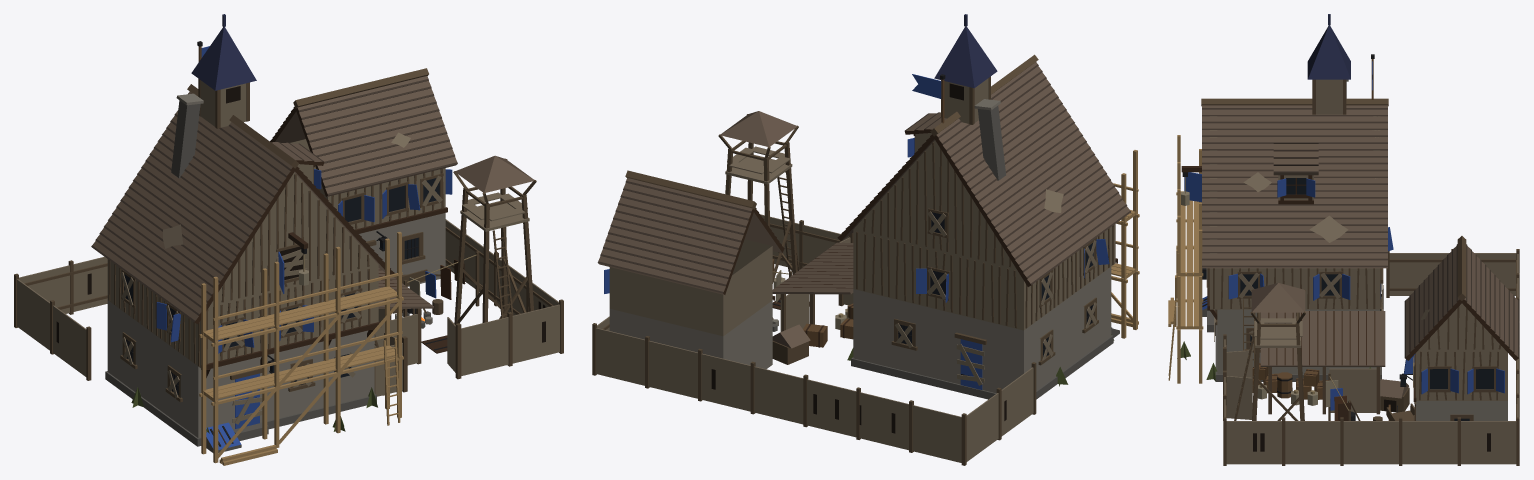
Rendered from dieb.glb.
3 views of the same model, side by side, from view 1: azimuth 30°, elevation 25°; view 2: azimuth 150°, elevation 25°; view 3: azimuth 270°, elevation 25° (orthographic). The views are drawn at different scales.
Parts seen in each view (by area): view 1: Haus, Stufe3, Stufe1, Geruest, Stufe2, Leerstand; view 2: Haus, Stufe3, Stufe1, Stufe2, Geruest, Leerstand, Fahne; view 3: Haus, Stufe3, Stufe1, Stufe2, Geruest, Leerstand.
Part boxes in pixels (x1,y1,x2,y2): Haus: (91, 84, 395, 452); Stufe3: (191, 14, 536, 324); Stufe1: (14, 219, 563, 396); Geruest: (199, 232, 403, 465); Stufe2: (271, 142, 479, 365); Leerstand: (122, 249, 377, 433); Haus: (837, 54, 1130, 399); Stufe3: (597, 14, 997, 369); Stufe1: (592, 214, 1036, 465); Stufe2: (772, 112, 946, 347); Geruest: (1111, 150, 1139, 338); Leerstand: (847, 211, 1114, 386); Fahne: (912, 74, 945, 123); Haus: (1181, 79, 1393, 381); Stufe3: (1234, 14, 1519, 420); Stufe1: (1223, 249, 1519, 465); Stufe2: (1243, 137, 1385, 420); Geruest: (1168, 135, 1203, 383); Leerstand: (1177, 273, 1383, 381).
Bounding box in the file's own units: 15.73 × 14.21 × 13.79.
